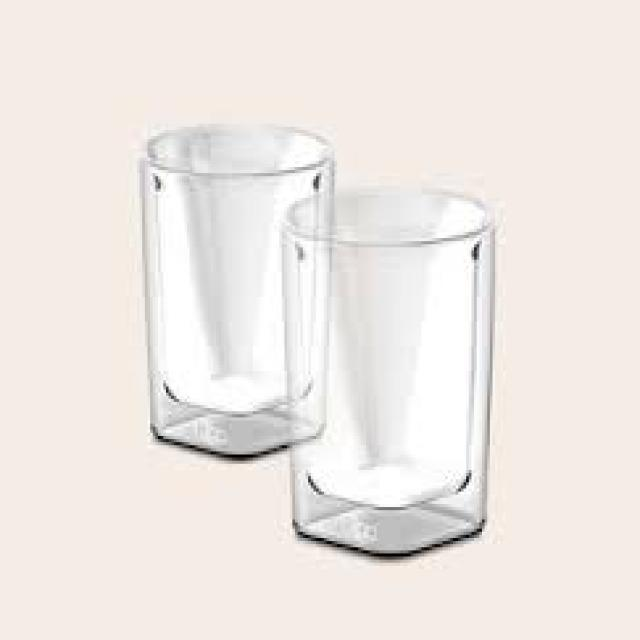glass: (142, 127, 493, 550)
